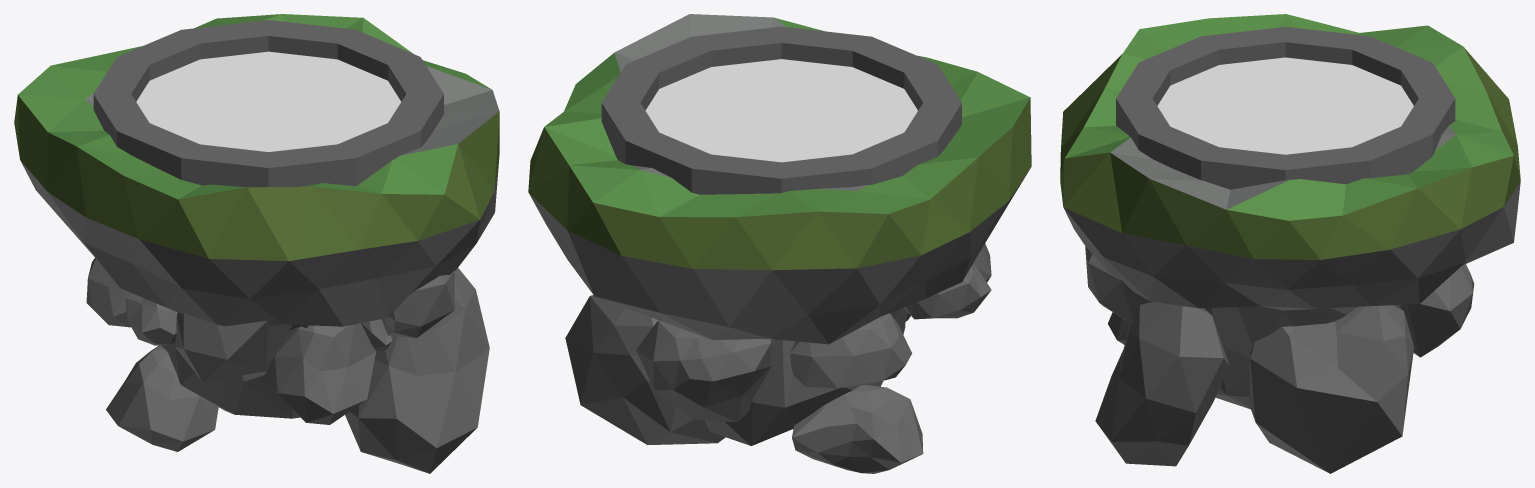
File: Vertice.fbx
3 renders of one model, left to right at view 1: azimuth 30°, elevation 25°; view 2: azimuth 150°, elevation 25°; view 3: azimuth 270°, elevation 25°, orthographic. The views are drawn at different scales.
Visible parts, largest first — view 1: Icosphere.001; view 2: Icosphere.001; view 3: Icosphere.001.
Boxes of the visible parts, <box> form: Icosphere.001: <box>14,14,499,473</box>; Icosphere.001: <box>528,14,1031,473</box>; Icosphere.001: <box>1060,14,1520,473</box>.
Size of the model in its own units: 1.94 by 1.56 by 1.98.
